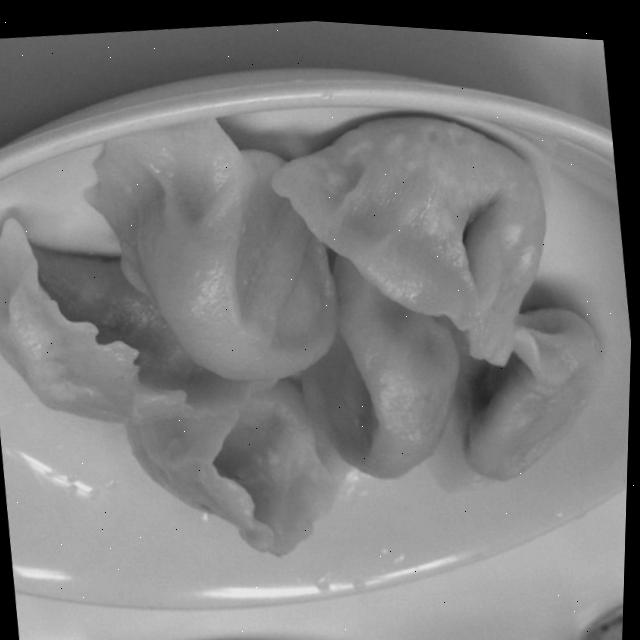带馅早点: (0, 21, 640, 614)
